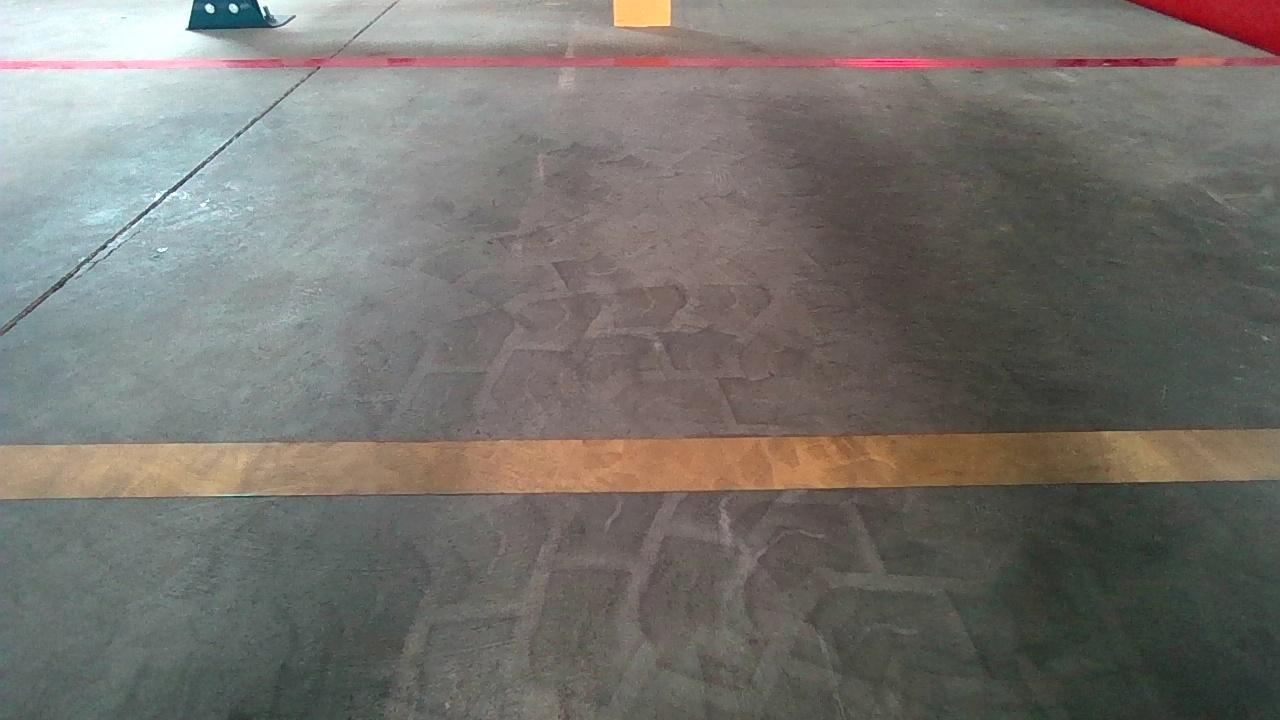orange_strip: (611, 0, 674, 28)
red_line: (5, 48, 1280, 77)
yellow_line: (0, 425, 1274, 501)
